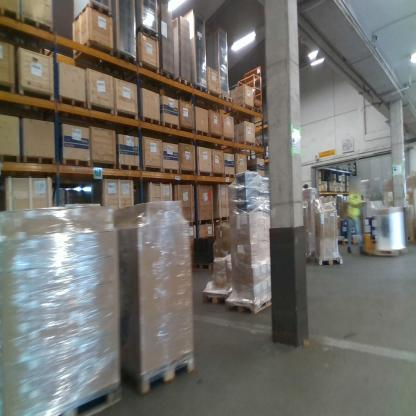pallet: (125, 356, 193, 395), (61, 382, 123, 415), (223, 290, 279, 317), (73, 41, 114, 67), (201, 285, 231, 309), (111, 51, 136, 78), (172, 74, 193, 99), (315, 254, 345, 267), (159, 68, 176, 88), (194, 80, 206, 101), (220, 91, 231, 111), (255, 138, 270, 149), (252, 109, 264, 119), (256, 122, 266, 130)
pallet_truck: (356, 196, 403, 258)
